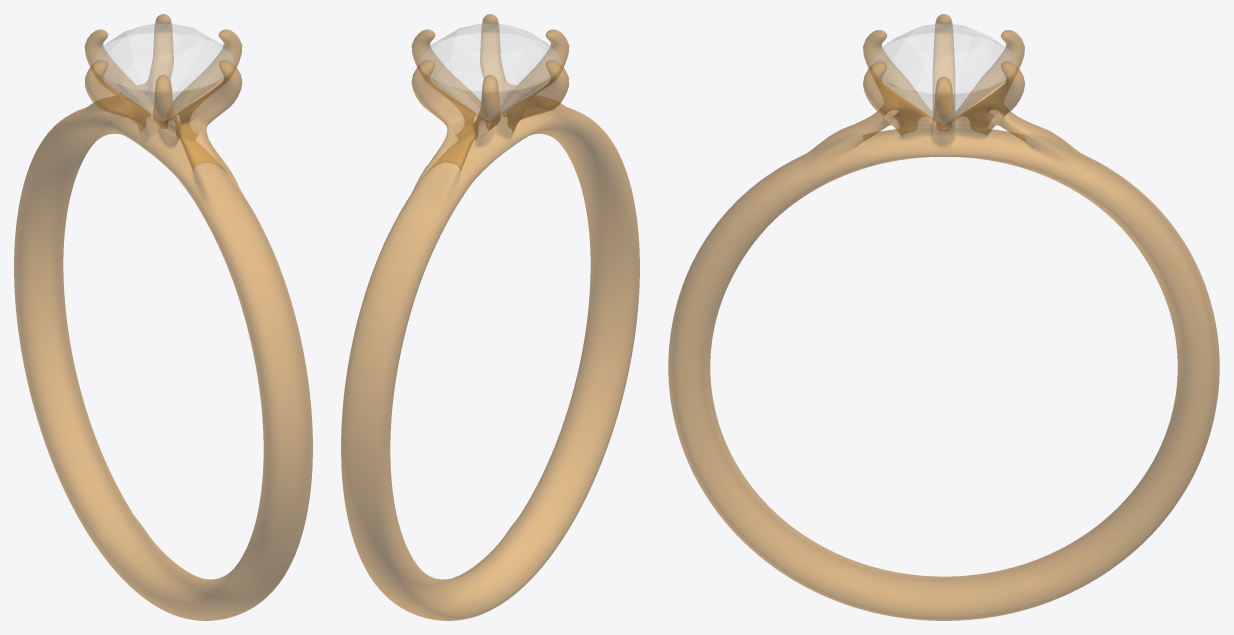
3 views of the same model, side by side, from view 1: azimuth 30°, elevation 25°; view 2: azimuth 150°, elevation 25°; view 3: azimuth 270°, elevation 25° (orthographic). The views are drawn at different scales.
Visible parts, largest first — view 1: VR101; view 2: VR101; view 3: VR101.
Part boxes in pixels (x1,y1,x2,y2): VR101: (14, 14, 312, 620); VR101: (341, 14, 639, 620); VR101: (668, 14, 1219, 620).
Size of the model in its own units: 0.771 by 2.68 by 2.32.
